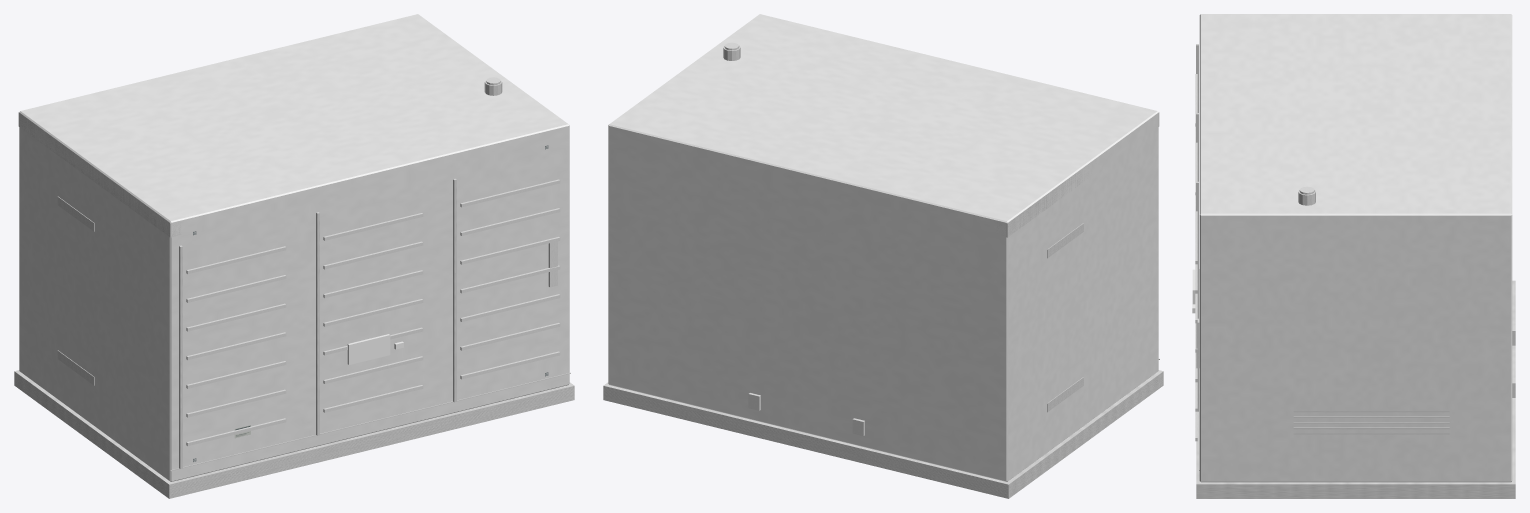
File: standbygenerator_extra_large.obj
3 views of the same model, side by side, from view 1: azimuth 30°, elevation 25°; view 2: azimuth 150°, elevation 25°; view 3: azimuth 270°, elevation 25° (orthographic). The views are drawn at different scales.
Parts seen in each view (by area): view 1: Case, Trim, Vents, Display; view 2: Case, Trim; view 3: Case, Trim, Vents.
Boxes of the visible parts, box(x1,y1,x2,y2) form: Case: box(19, 14, 569, 481); Trim: box(14, 80, 574, 498); Vents: box(186, 77, 560, 446); Display: box(347, 334, 390, 364); Case: box(608, 14, 1158, 481); Trim: box(603, 45, 1163, 498); Case: box(1199, 14, 1512, 482); Trim: box(1196, 44, 1515, 498); Vents: box(1195, 74, 1314, 441).
Size of the model in its own units: 2.96 by 2 by 1.98.
